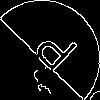P: (25, 25, 80, 82)
